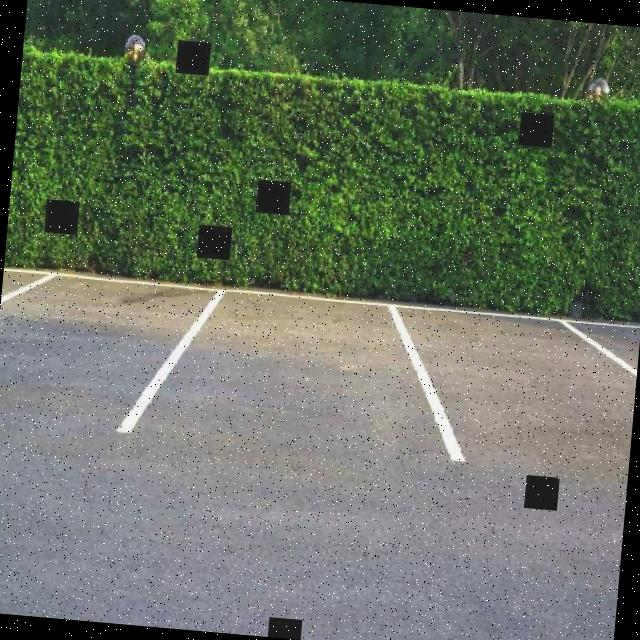empty: (101, 275, 487, 468), (370, 276, 640, 496), (0, 256, 231, 457)
